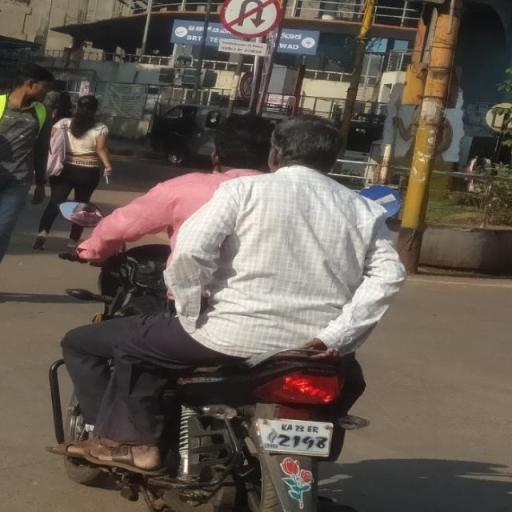bike: (40, 106, 418, 512)
numberplate: (256, 414, 336, 460)
withouthelmet: (272, 116, 344, 168), (215, 114, 274, 172)
